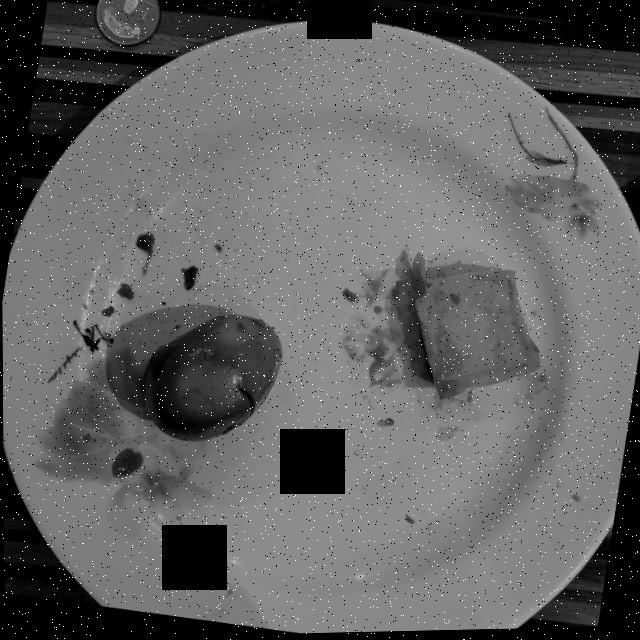coin: (95, 0, 159, 46)
creamy tofu -without sauce-: (409, 256, 539, 401)
soy egg: (142, 316, 281, 442)
